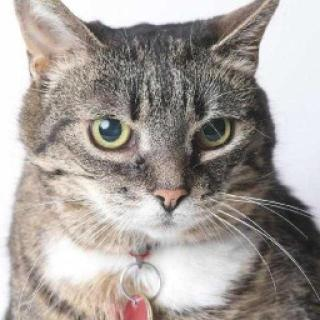cat: (9, 0, 289, 241)
nose: (142, 157, 197, 215)
